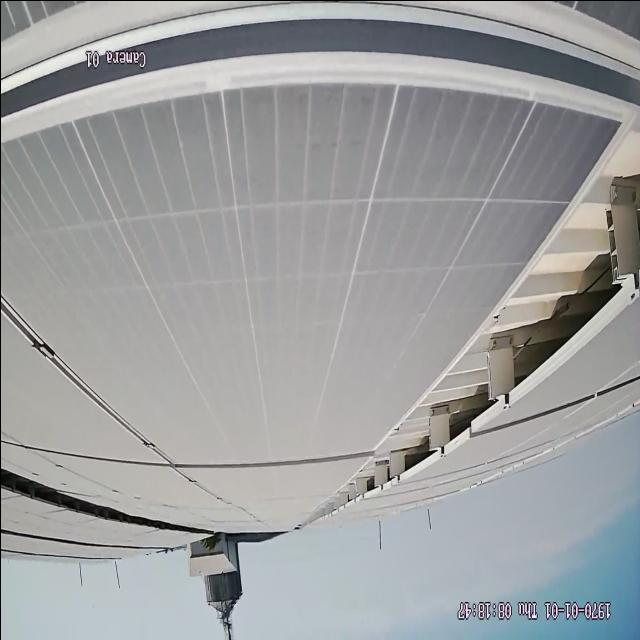interior panel: (0, 0, 634, 145), (1, 302, 166, 455)
outher panel: (309, 107, 637, 520), (1, 470, 177, 530)
